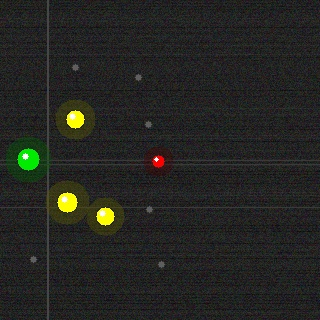green_normal: (15, 146, 41, 172)
red_fault: (150, 153, 166, 169)
yellow_warning: (55, 190, 79, 214), (94, 205, 116, 227), (64, 108, 86, 130)
